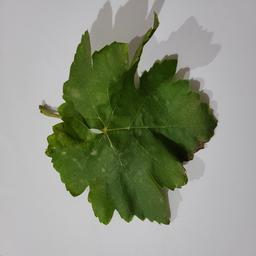Powdery-Mildew: (62, 144, 109, 174), (167, 88, 199, 125), (130, 153, 155, 183), (98, 48, 126, 74), (55, 131, 73, 149), (72, 83, 90, 100)
